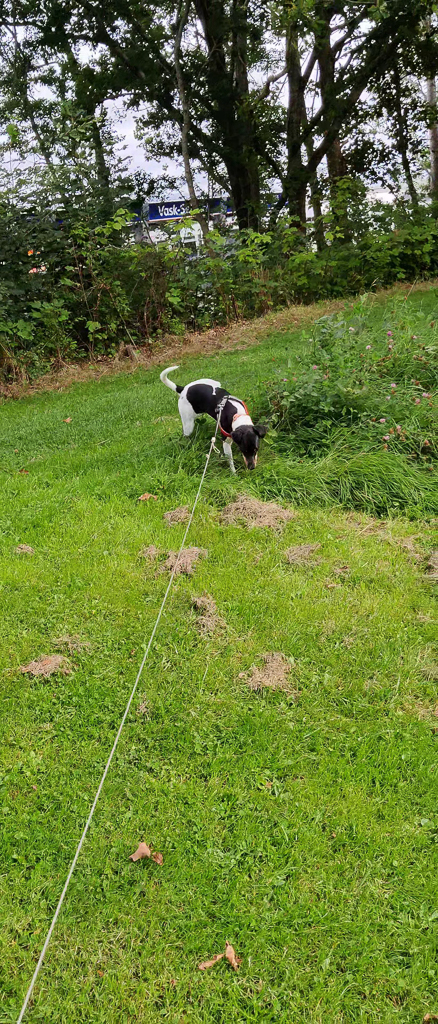Dog: (148, 359, 280, 481)
